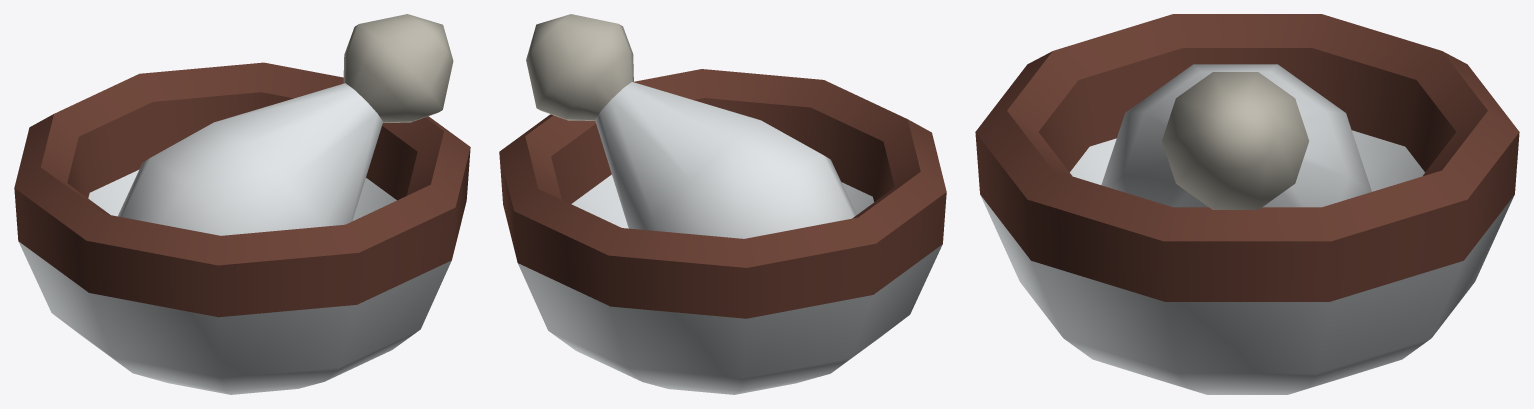
File: BowlMedicine_B.fbx
3 views of the same model, side by side, from view 1: azimuth 30°, elevation 25°; view 2: azimuth 150°, elevation 25°; view 3: azimuth 270°, elevation 25° (orthographic). The views are drawn at different scales.
Visible parts, largest first — view 1: BowlMedicine_B; view 2: BowlMedicine_B; view 3: BowlMedicine_B.
Part boxes in pixels (bbox=[...]): BowlMedicine_B: bbox=[14, 14, 470, 394]; BowlMedicine_B: bbox=[499, 14, 946, 394]; BowlMedicine_B: bbox=[975, 14, 1519, 394].
Size of the model in its own units: 23.48 by 17.42 by 24.31.
